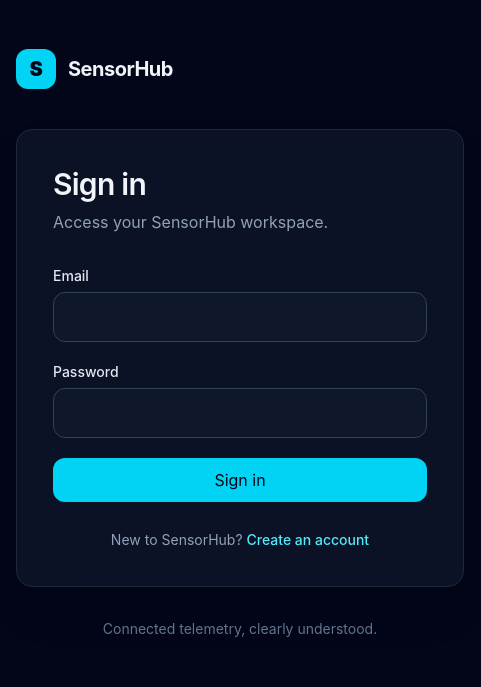
Scenario: SPA authentication › shows invalid credentials without exposing a raw API error
Type "alex@example.test" into the field labelled "Email" at (240, 317), box [53,292,427,342]
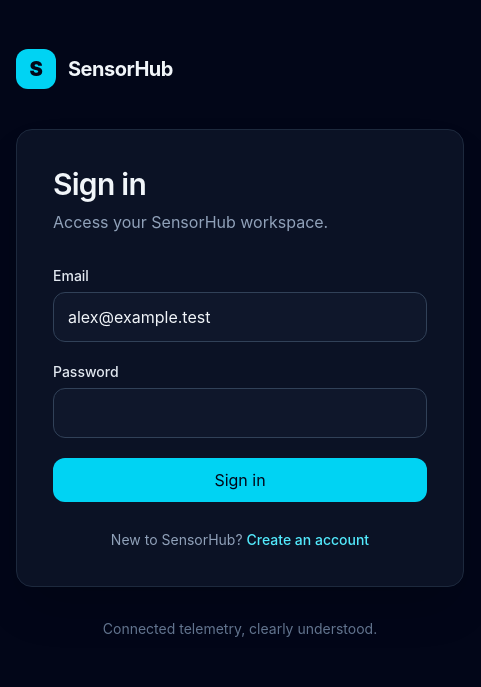
Type "wrongpass" into the password field labelled "Password" at (240, 413), box [53,388,427,438]
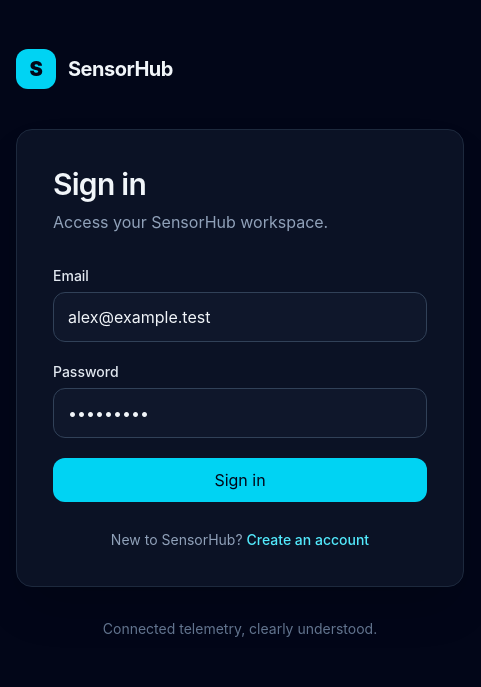
Click the button "Sign in" at (240, 480), box [53,458,427,502]
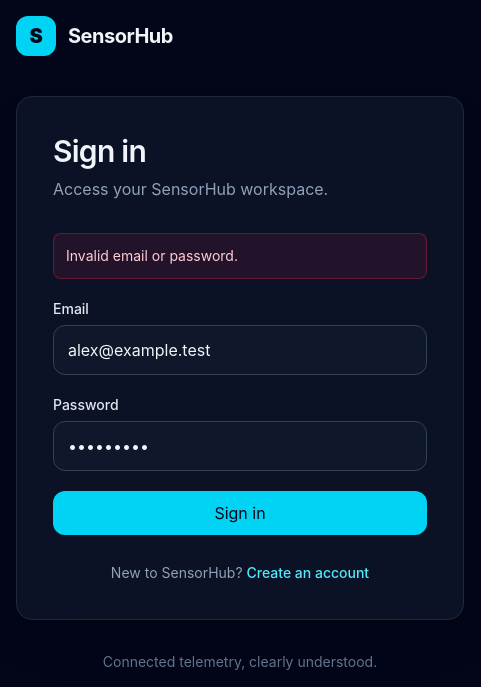
Check: the message reads "Invalid email or password.", box [66,247,238,264]
